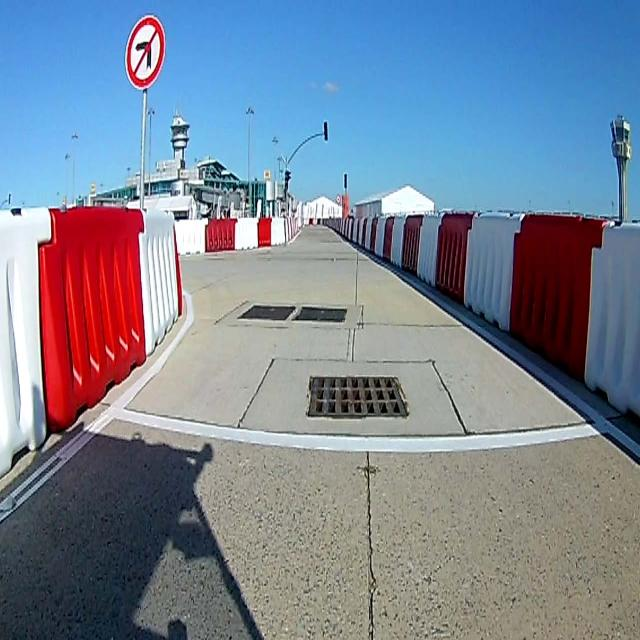soladonulmez: (125, 15, 165, 89)
